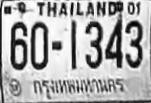0: (30, 21, 48, 69)
1: (70, 20, 76, 67)
3: (84, 19, 102, 68), (124, 19, 142, 67)
4: (104, 18, 122, 68)
6: (10, 21, 28, 69)
BKK: (30, 74, 128, 97)
